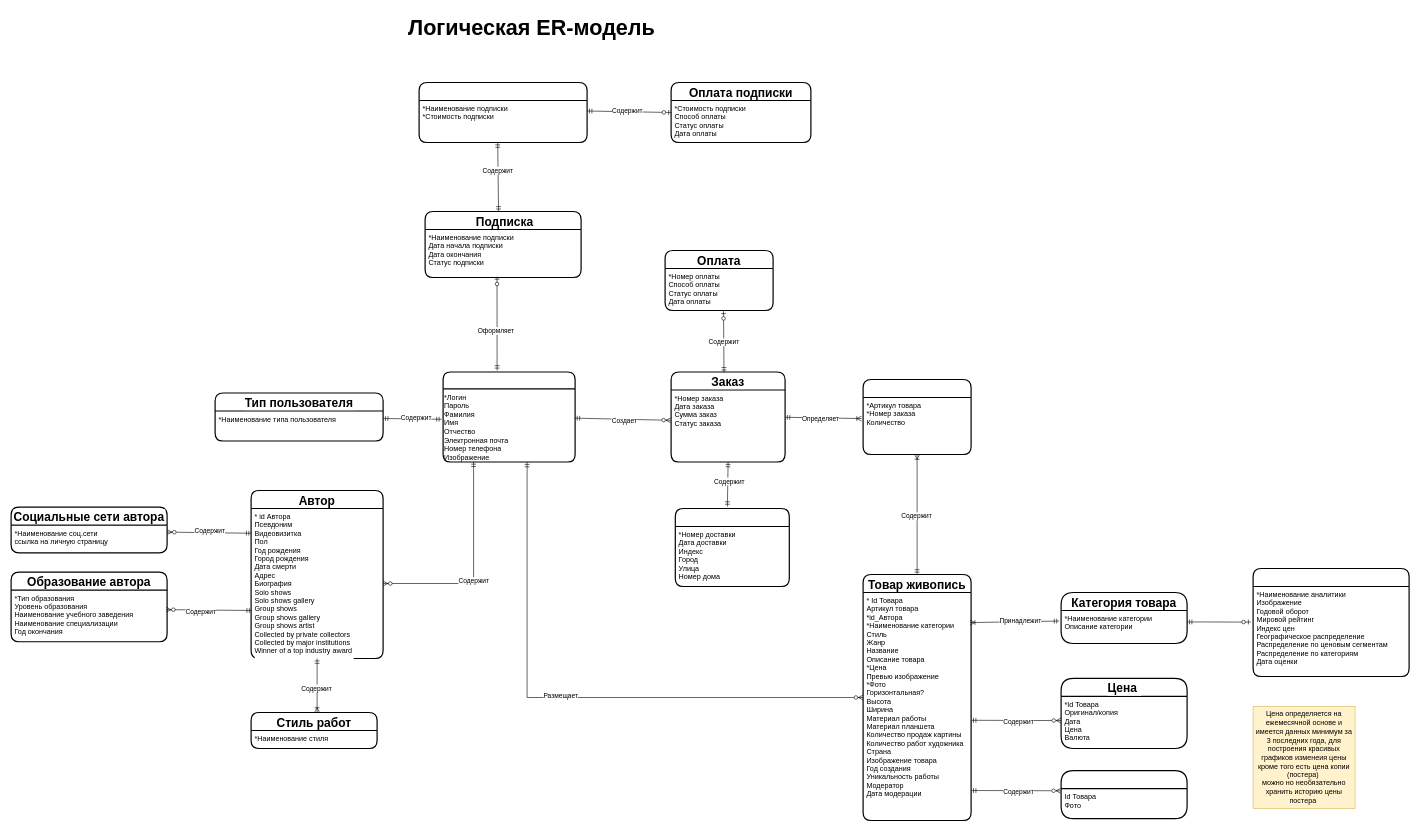
The diagram is 1420 pixels wide and 831 high, and some of its shapes have lost their labels. Here are the shapes that lost their labels. From the top down, the box of each, then its label:
(418, 82, 587, 143): Тип подписки
(442, 371, 575, 462): Пользователь
(862, 379, 971, 455): Товары в заказе
(674, 508, 790, 587): Доставка
(1252, 568, 1409, 677): Аналитика
(1060, 770, 1187, 819): Фотогалерея
